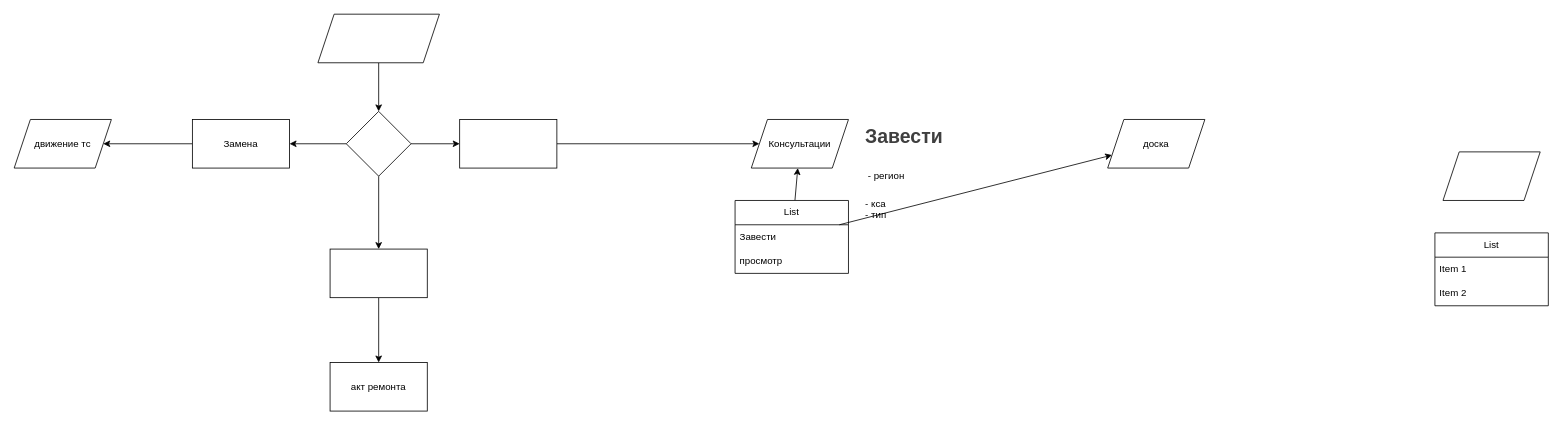
Image size: 1562x425. Some labels were removed from this diagram. The box of each missing label's shape, as (x1, y1, x2, y2) in pixels:
База знаний: (1442, 151, 1540, 200)
Консультация: (459, 119, 557, 168)
Ремонт на месте: (329, 248, 427, 298)
Решение проблемы: (317, 13, 439, 63)
